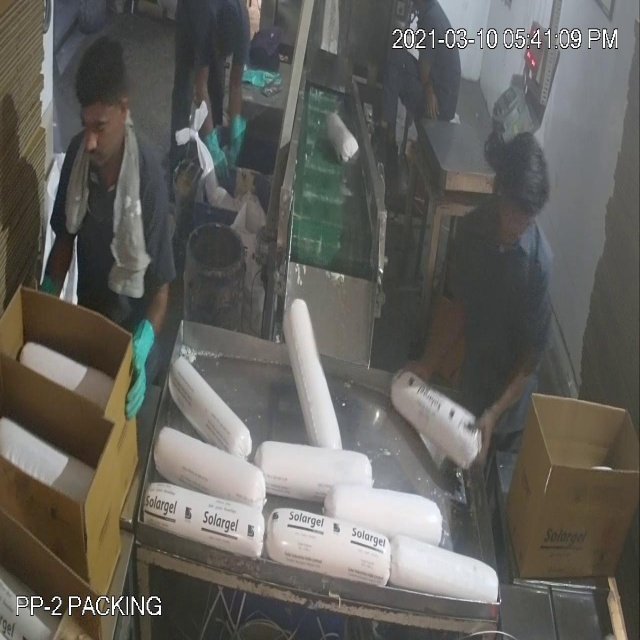Guantes: (105, 300, 174, 428)
Sin_guantes: (461, 352, 552, 481), (389, 276, 482, 399)
